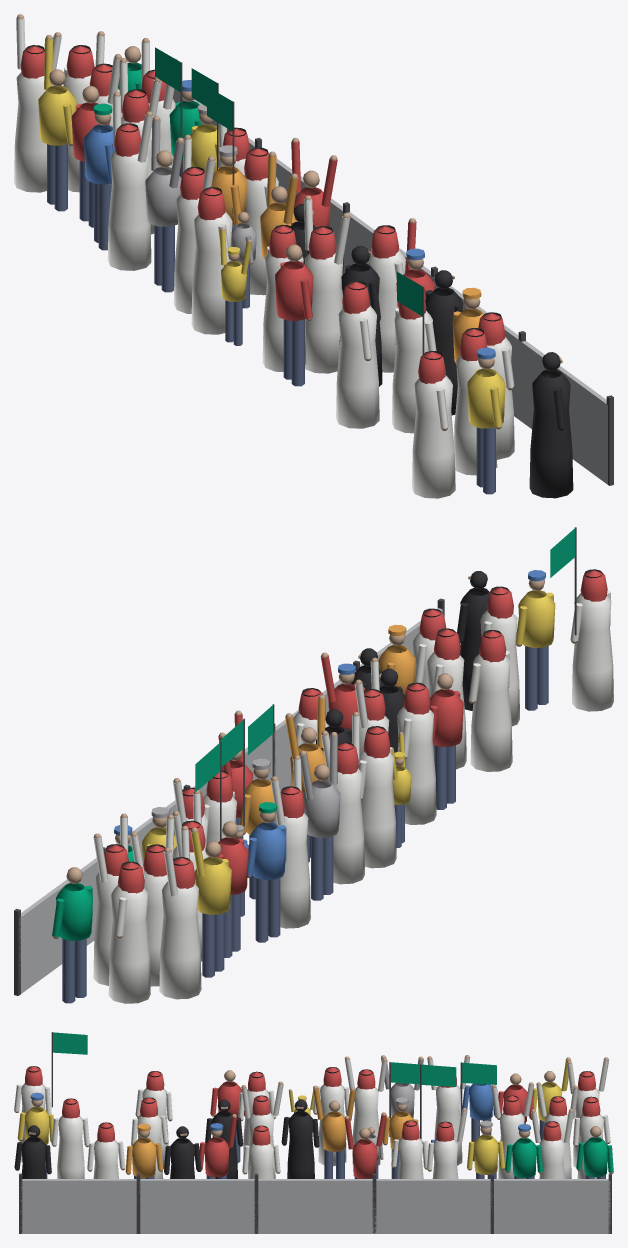
Rendered from SM_CrowdCheer_10m.fbx.
3 views of the same model, one above another, from view 1: azimuth 30°, elevation 25°; view 2: azimuth 150°, elevation 25°; view 3: azimuth 270°, elevation 25° (orthographic). The views are drawn at different scales.
Parts seen in each view (by area): view 1: SM_CrowdCheer_10m; view 2: SM_CrowdCheer_10m; view 3: SM_CrowdCheer_10m.
Boxes of the visible parts, x1,y1,x2,y2 form: SM_CrowdCheer_10m: (14, 14, 613, 498); SM_CrowdCheer_10m: (14, 527, 613, 1003); SM_CrowdCheer_10m: (14, 1032, 613, 1233).
Size of the model in its own units: 247 by 276 by 1018.
